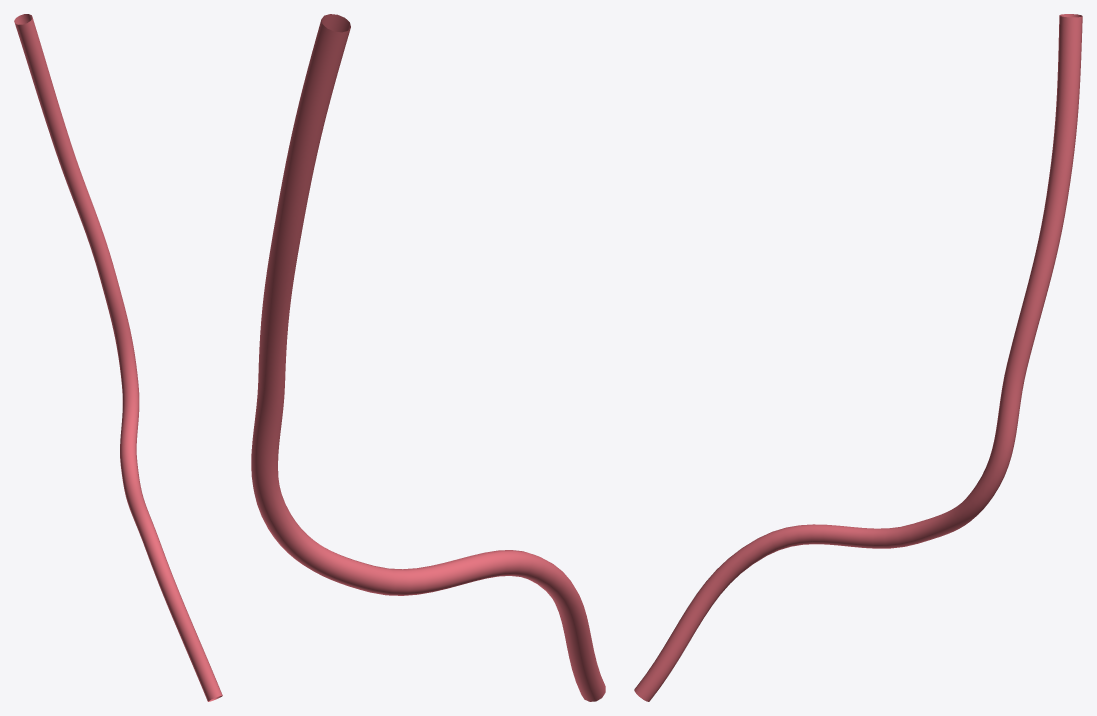
The picture shows the model from 3 angles, left to right: view 1: azimuth 30°, elevation 25°; view 2: azimuth 150°, elevation 25°; view 3: azimuth 270°, elevation 25°; orthographic projection. The views are drawn at different scales.
Visible parts, largest first — view 1: ZA_1b30ed378923c4eb; view 2: ZA_1b30ed378923c4eb; view 3: ZA_1b30ed378923c4eb.
Part boxes in pixels (bbox=[...]): ZA_1b30ed378923c4eb: bbox=[14, 14, 222, 701]; ZA_1b30ed378923c4eb: bbox=[251, 14, 605, 701]; ZA_1b30ed378923c4eb: bbox=[634, 14, 1082, 701].
Bounding box in the file's own units: 0.0132 × 0.0799 × 0.0478.
